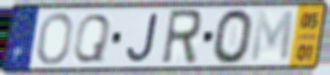J: (124, 11, 160, 65)
M: (248, 9, 296, 65)
O: (211, 7, 255, 66), (35, 11, 75, 67)
Q: (71, 12, 114, 65)
R: (159, 8, 204, 67)
